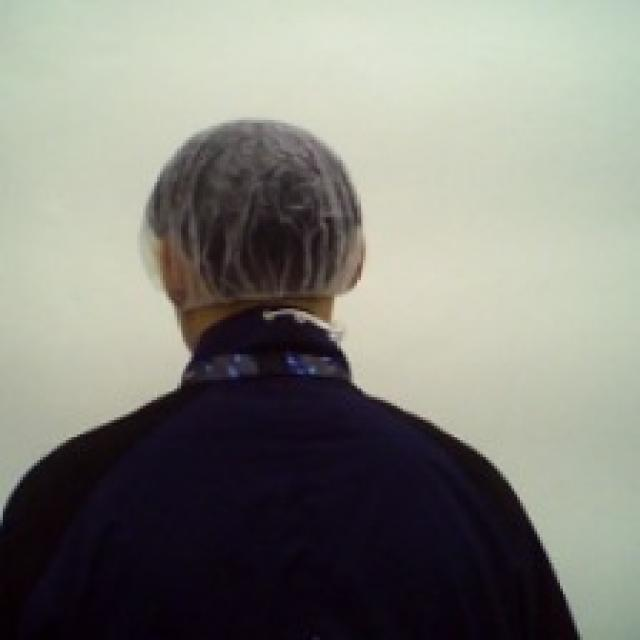gloves: (131, 114, 374, 322)
